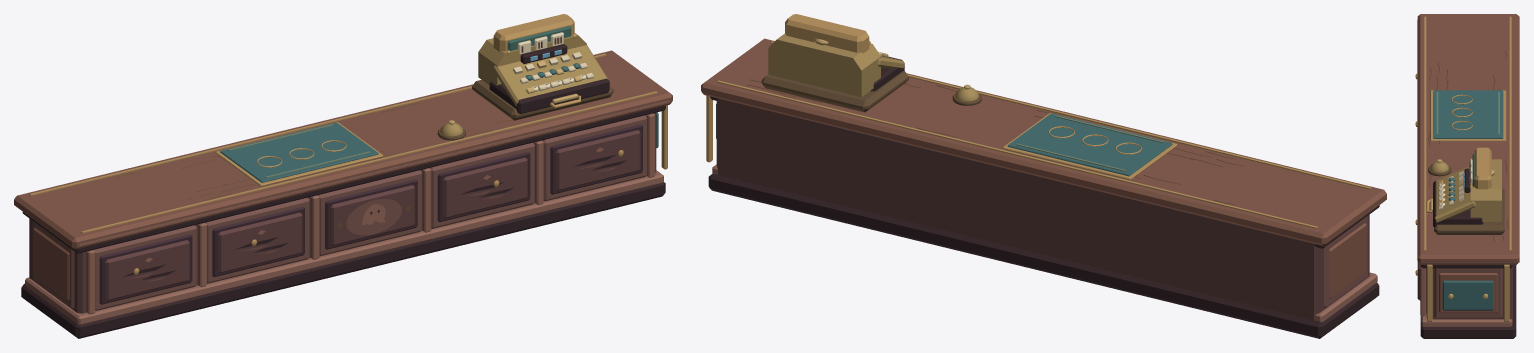
The model's file is counter.glb.
3 renders of one model, left to right at view 1: azimuth 30°, elevation 25°; view 2: azimuth 150°, elevation 25°; view 3: azimuth 270°, elevation 25°, orthographic. The views are drawn at different scales.
Visible parts, largest first — view 1: counter; view 2: counter; view 3: counter.
Boxes of the visible parts, bbox=[...] form: counter: bbox=[14, 14, 672, 338]; counter: bbox=[701, 14, 1386, 338]; counter: bbox=[1415, 14, 1519, 338].
Size of the model in its own units: 4.5 by 1.2 by 0.8108.
